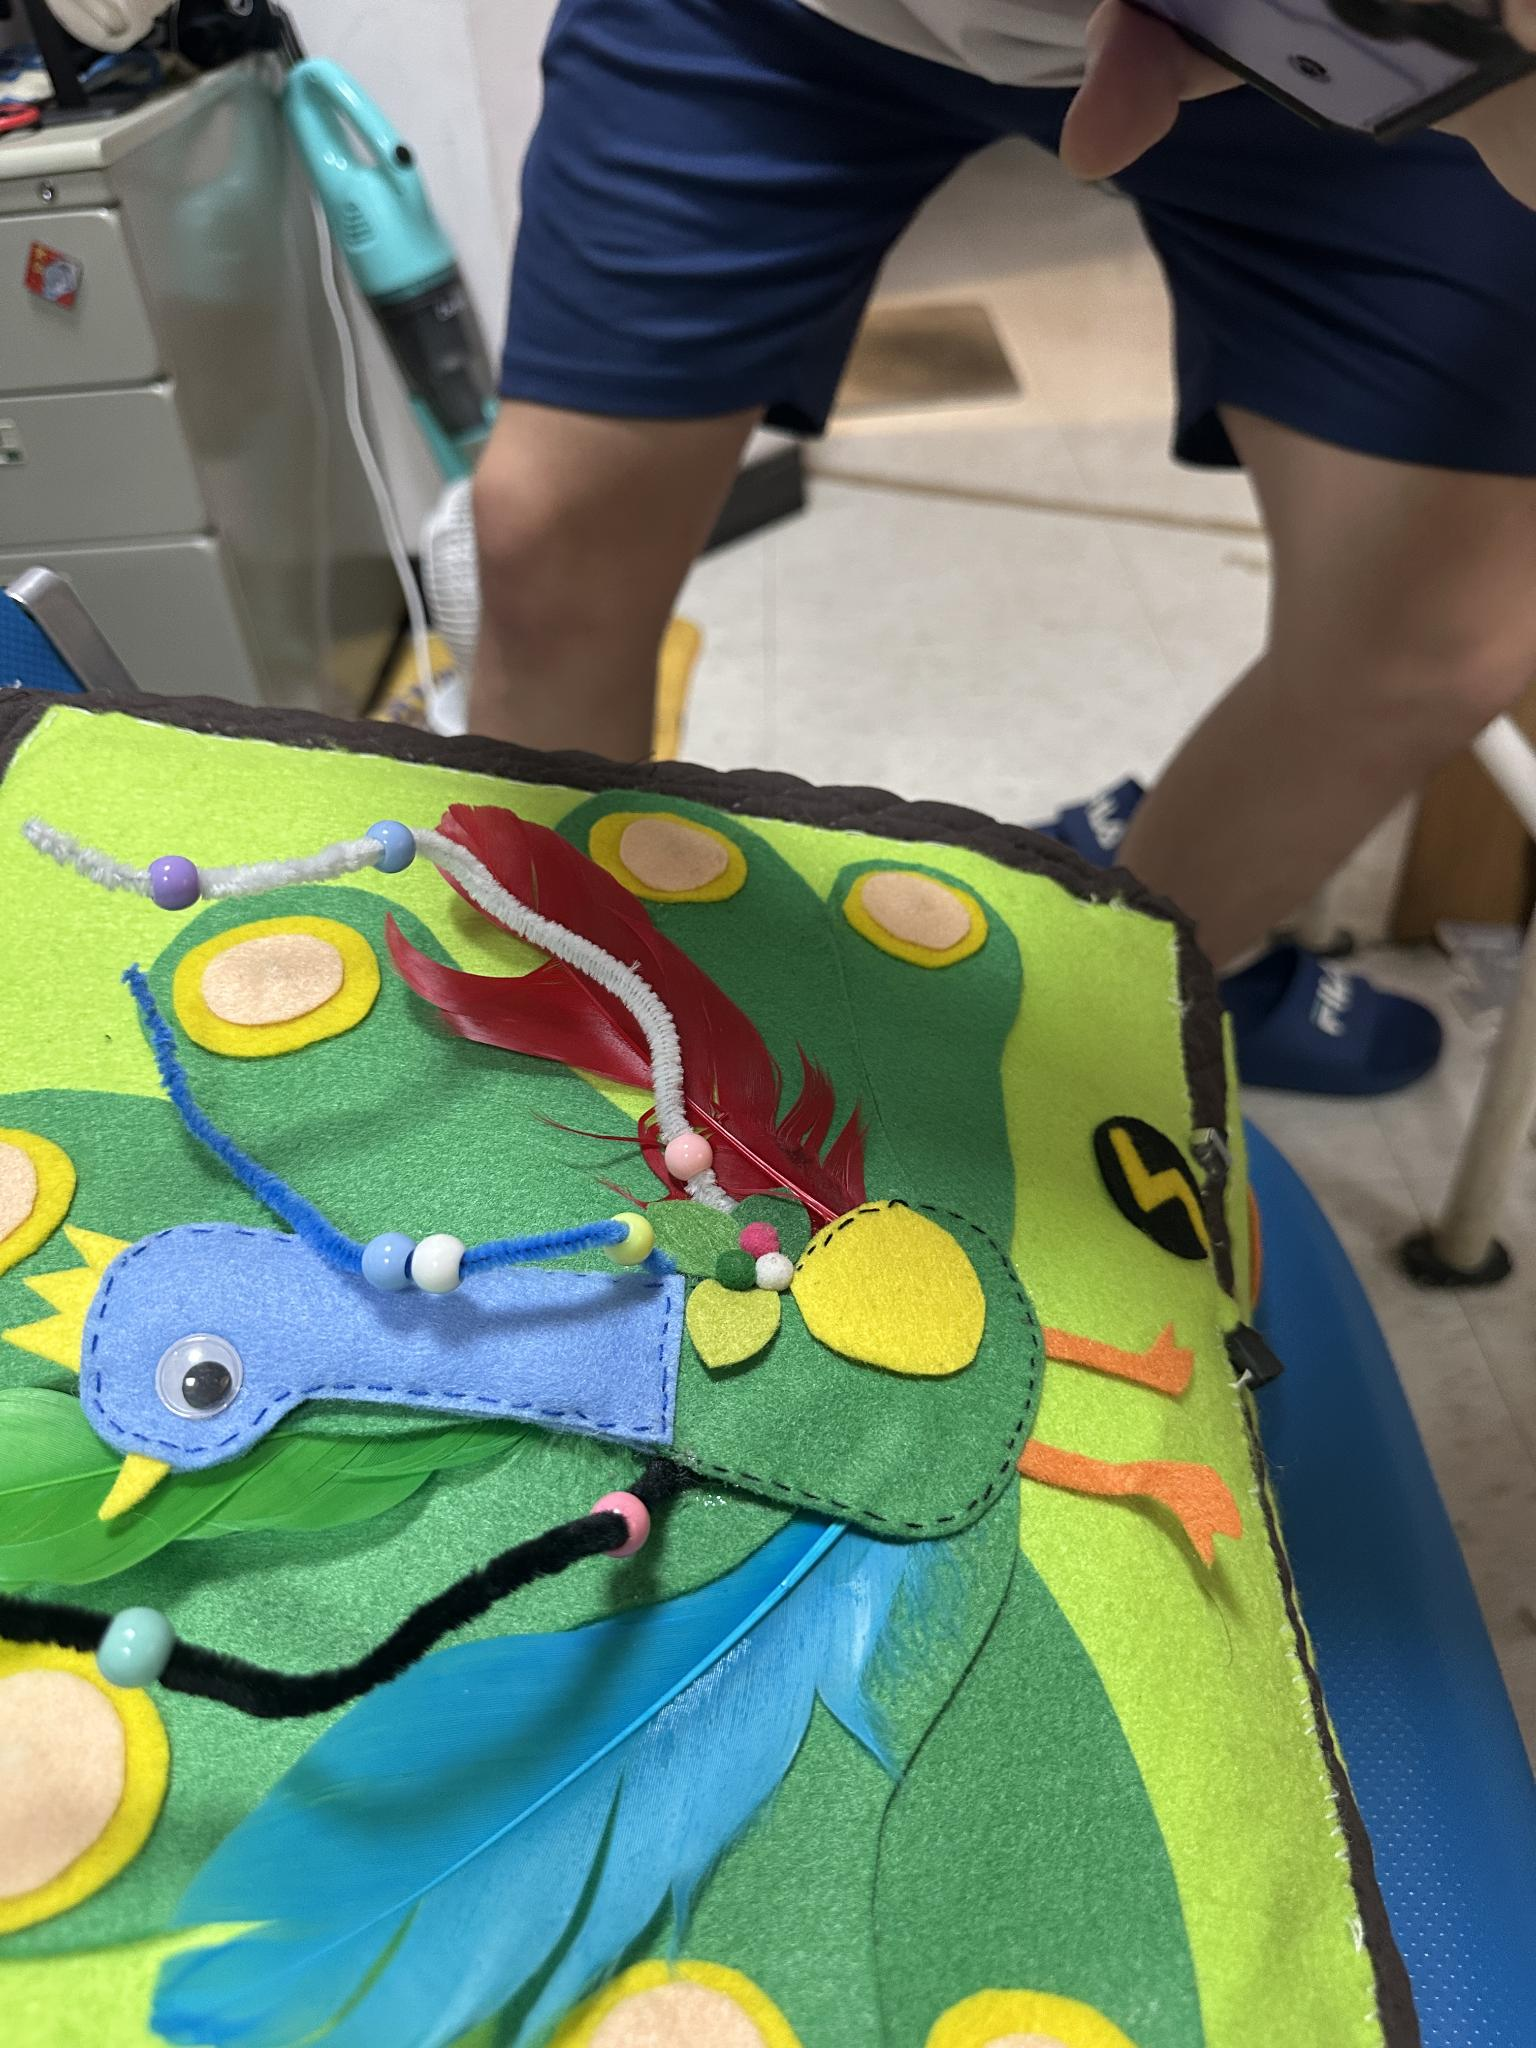bead: (84, 1588, 174, 1693), (592, 1490, 652, 1571), (360, 811, 428, 874), (140, 847, 210, 906), (410, 1230, 466, 1300), (607, 1205, 655, 1269), (369, 1214, 411, 1288), (658, 1137, 713, 1179)
